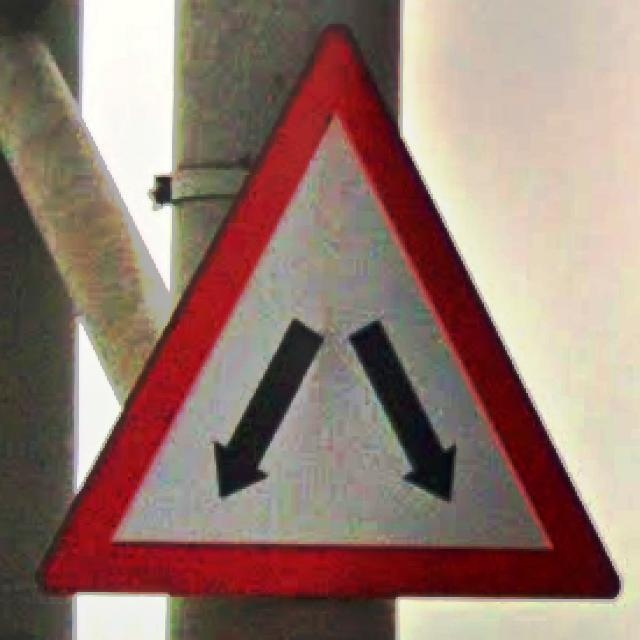diverge: (33, 19, 622, 604)
